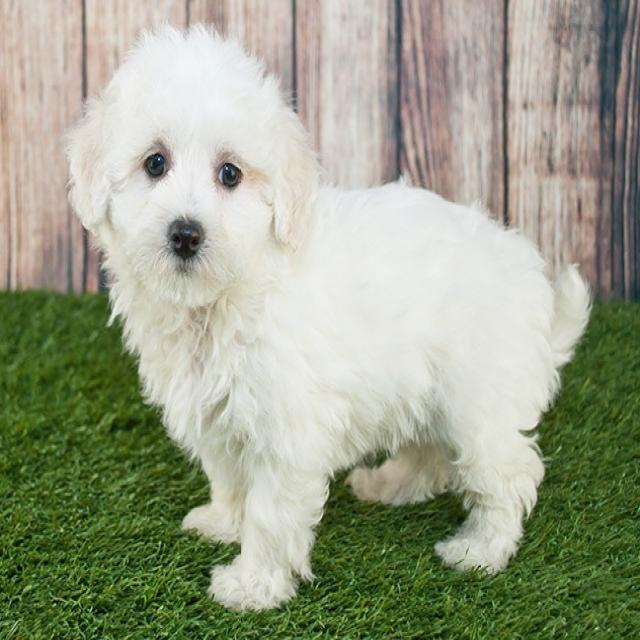Dog: (65, 13, 597, 618)
